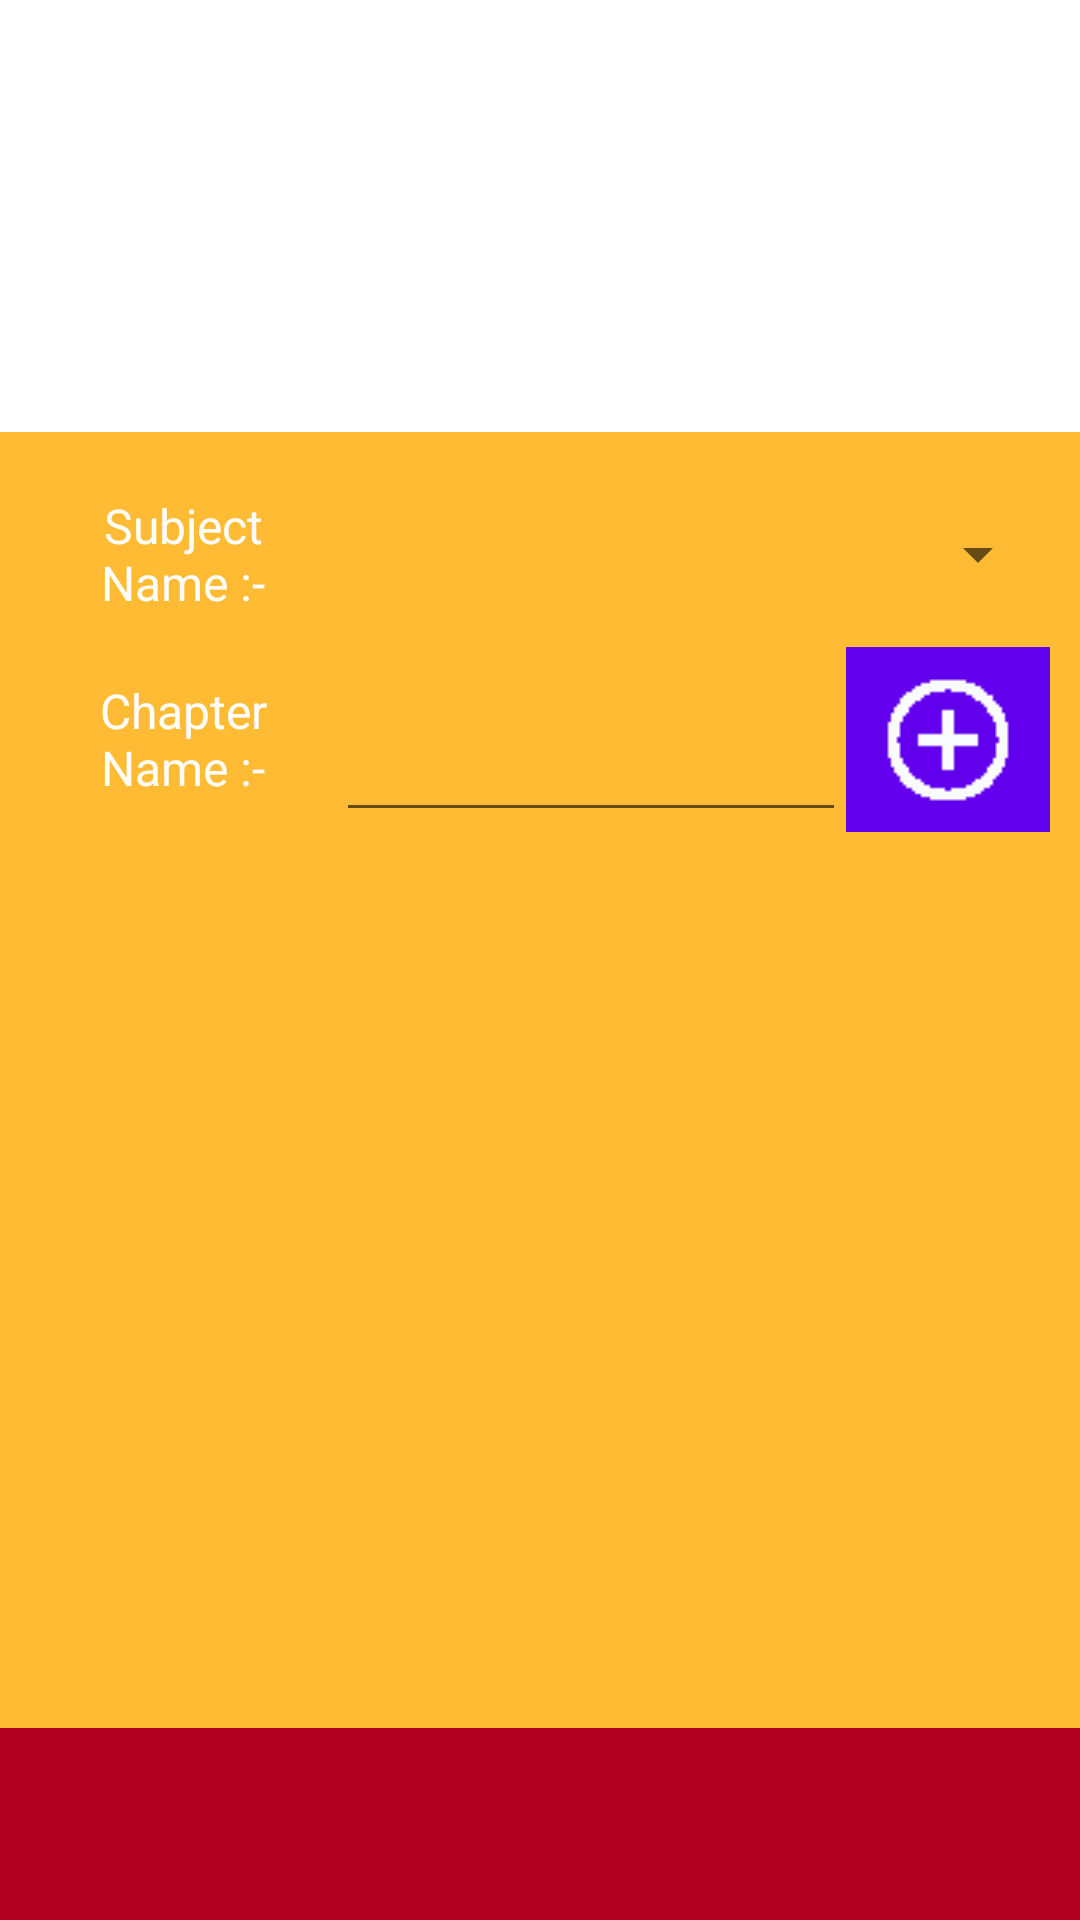

Icon bounding boxes for this 1080x1920 phone screenshot, format (left=x1, top=y1, right=x2, bottom=y2):
add: (left=846, top=647, right=1050, bottom=832)
